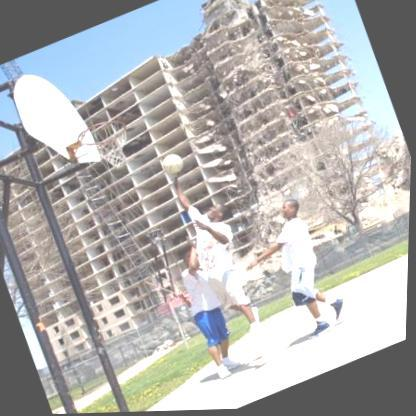basketball: (159, 151, 187, 178)
rim: (75, 113, 131, 154)
